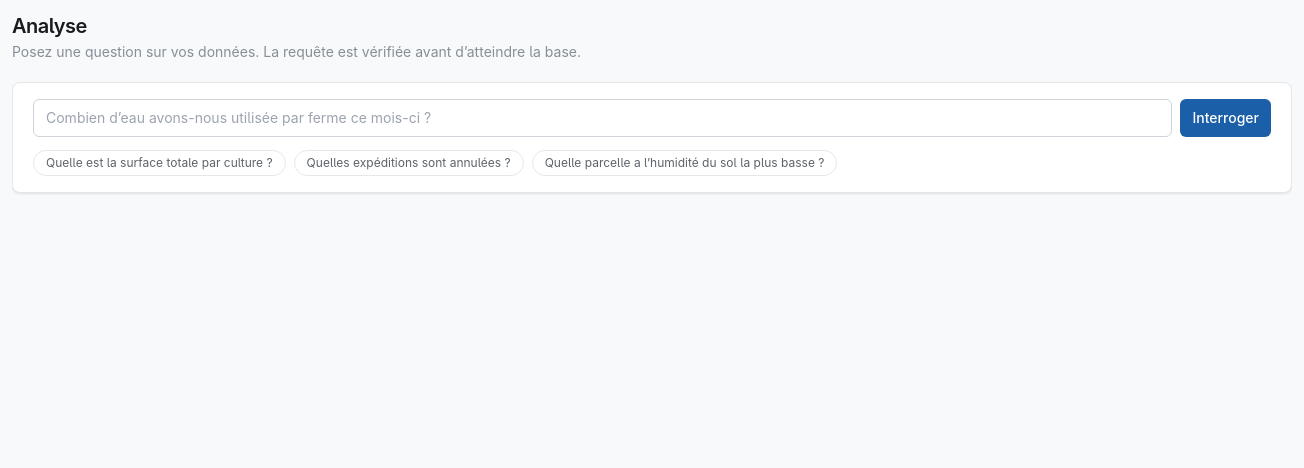
Test: un refus › dit qu’aucune donnée n’a été lue, et montre la requête refusée
Click the button "Quelle est la surface totale par culture ?" at (159,163), box x1=33 y1=150 x2=286 y2=176
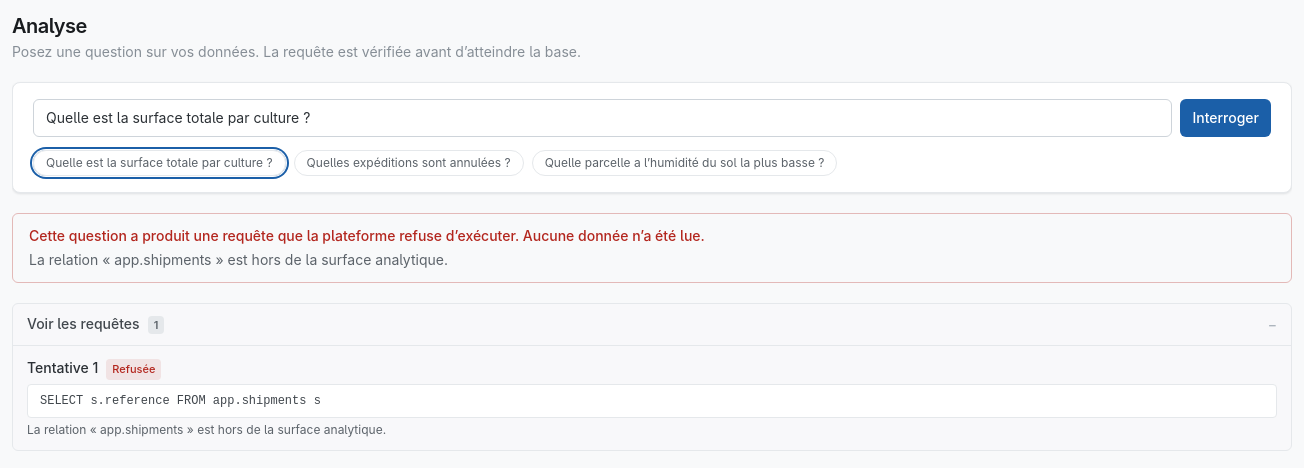
Expected: the message shows "Aucune donnée n’a été lue", x1=29 y1=227 x2=705 y2=244
Expected: the text "hors de la surface analytique" is shown, x1=29 y1=251 x2=448 y2=268
Expected: the text "SELECT s.reference FROM app.shipments s" is shown, x1=27 y1=384 x2=1277 y2=418
